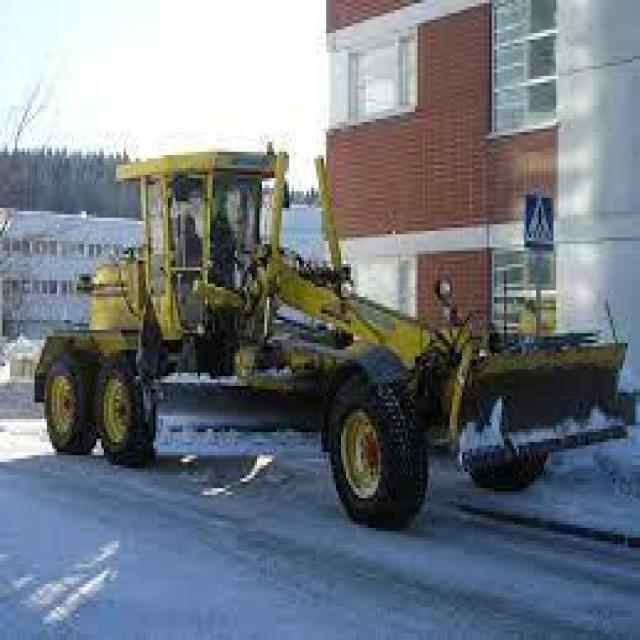Grader: (25, 125, 638, 548)
